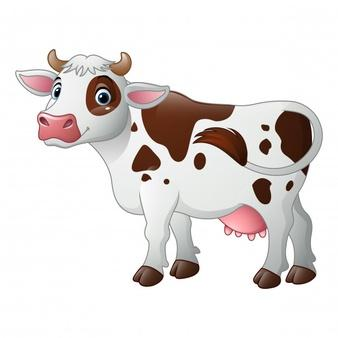cow: (16, 54, 323, 287)
